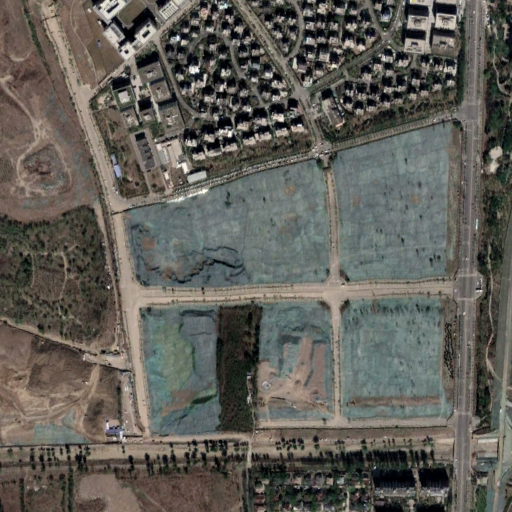cw: (120, 119, 461, 438)
